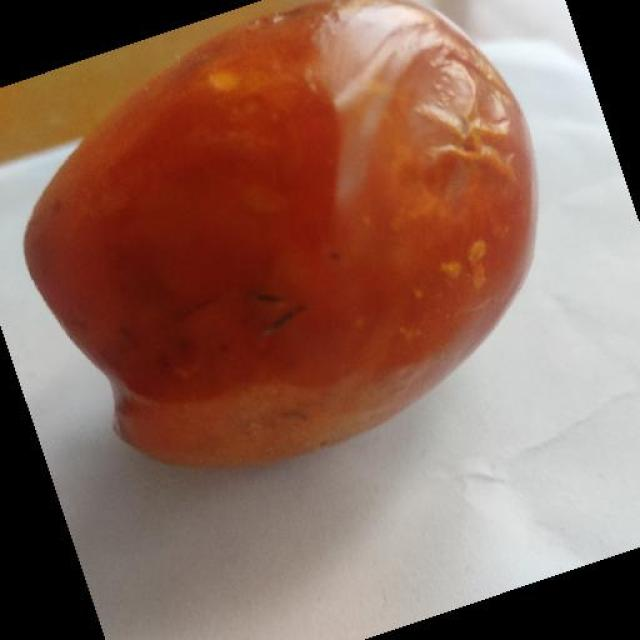Stale_tomato: (38, 0, 592, 466)
